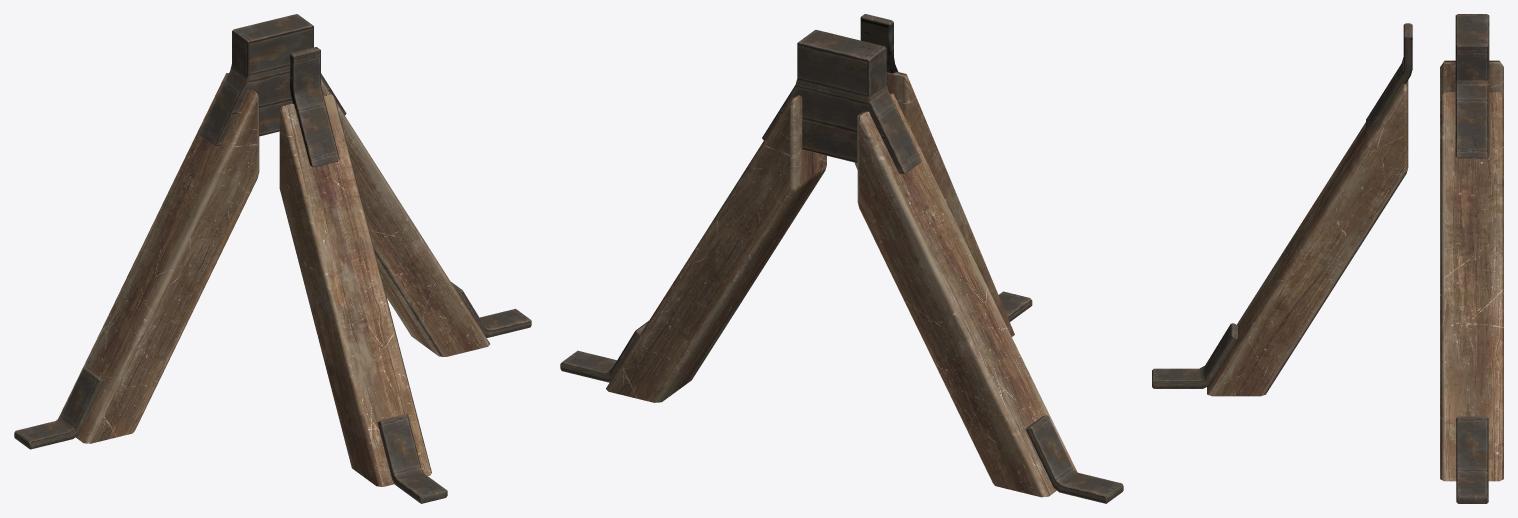
3 renders of one model, left to right at view 1: azimuth 30°, elevation 25°; view 2: azimuth 150°, elevation 25°; view 3: azimuth 270°, elevation 25°, orthographic. The views are drawn at different scales.
Parts seen in each view (by area): view 1: SM_DR_Wood_Stand_01_LOD0; view 2: SM_DR_Wood_Stand_01_LOD0; view 3: SM_DR_Wood_Stand_01_LOD0.
Part boxes in pixels (x1,y1,x2,y2): SM_DR_Wood_Stand_01_LOD0: (14,14,531,503); SM_DR_Wood_Stand_01_LOD0: (560,14,1123,503); SM_DR_Wood_Stand_01_LOD0: (1152,14,1503,503).
Bounding box in the file's own units: 4.52 × 3.06 × 2.76.
Materials: 2 (2 with a texture image).
